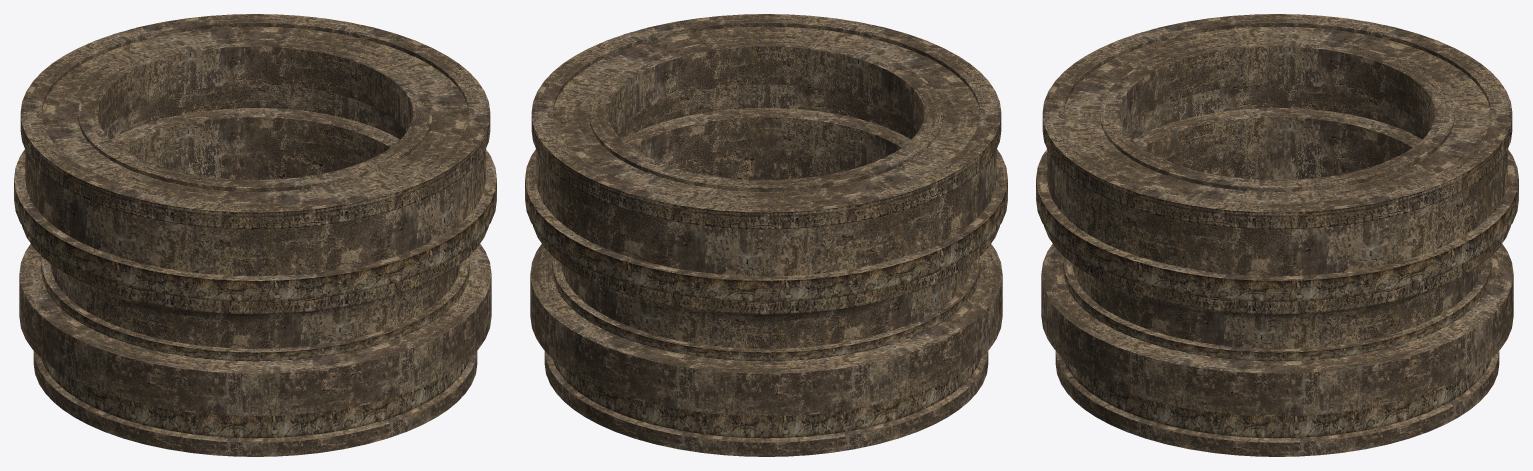
File: materials_5_wall_cylinder_2.fbx
3 views of the same model, side by side, from view 1: azimuth 30°, elevation 25°; view 2: azimuth 150°, elevation 25°; view 3: azimuth 270°, elevation 25° (orthographic).
Visible parts, largest first — view 1: materials_5_wall_cylinder_2; view 2: materials_5_wall_cylinder_2; view 3: materials_5_wall_cylinder_2.
Boxes of the visible parts, <box> form: materials_5_wall_cylinder_2: <box>14,14,496,456</box>; materials_5_wall_cylinder_2: <box>525,14,1007,456</box>; materials_5_wall_cylinder_2: <box>1036,14,1518,456</box>.
Bounding box in the file's own units: 672 × 391 × 672.
